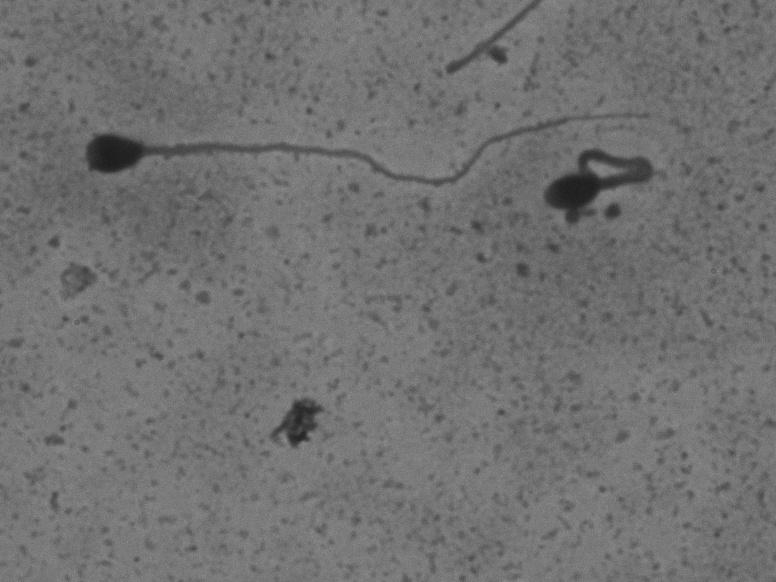Abnormal: (43, 96, 668, 201), (535, 141, 664, 240)
